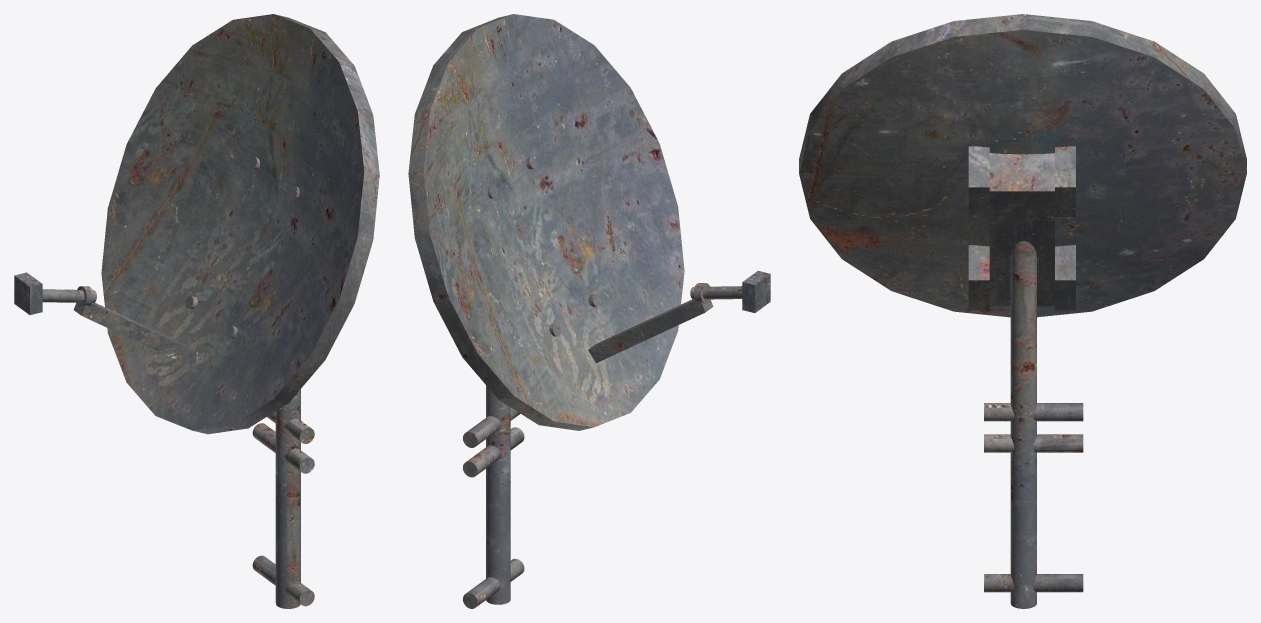
Rendered from rusted antennas1.fbx.
3 views of the same model, side by side, from view 1: azimuth 30°, elevation 25°; view 2: azimuth 150°, elevation 25°; view 3: azimuth 270°, elevation 25° (orthographic). The views are drawn at different scales.
Visible parts, largest first — view 1: pCylinder87; view 2: pCylinder87; view 3: pCylinder87.
Boxes of the visible parts, box(x1,y1,x2,y2) form: pCylinder87: box(14, 14, 379, 608); pCylinder87: box(408, 14, 770, 608); pCylinder87: box(799, 14, 1246, 608).
Size of the model in its own units: 0.6612 by 0.7826 by 1.16.
